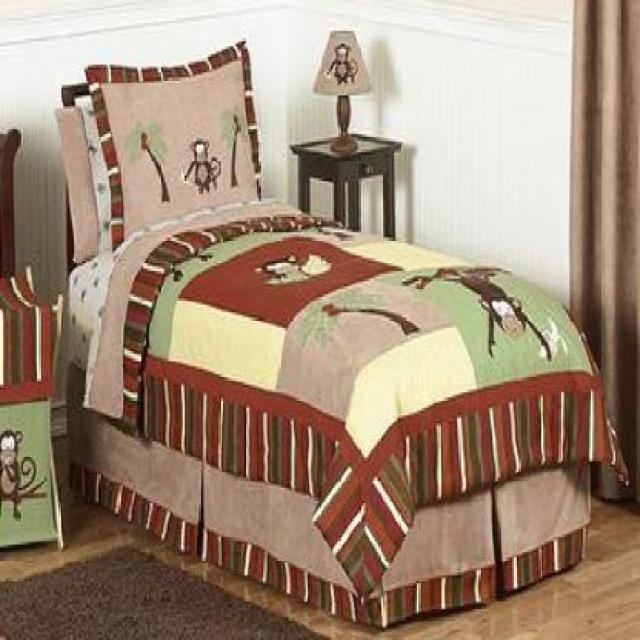Bed: (43, 34, 637, 640)
